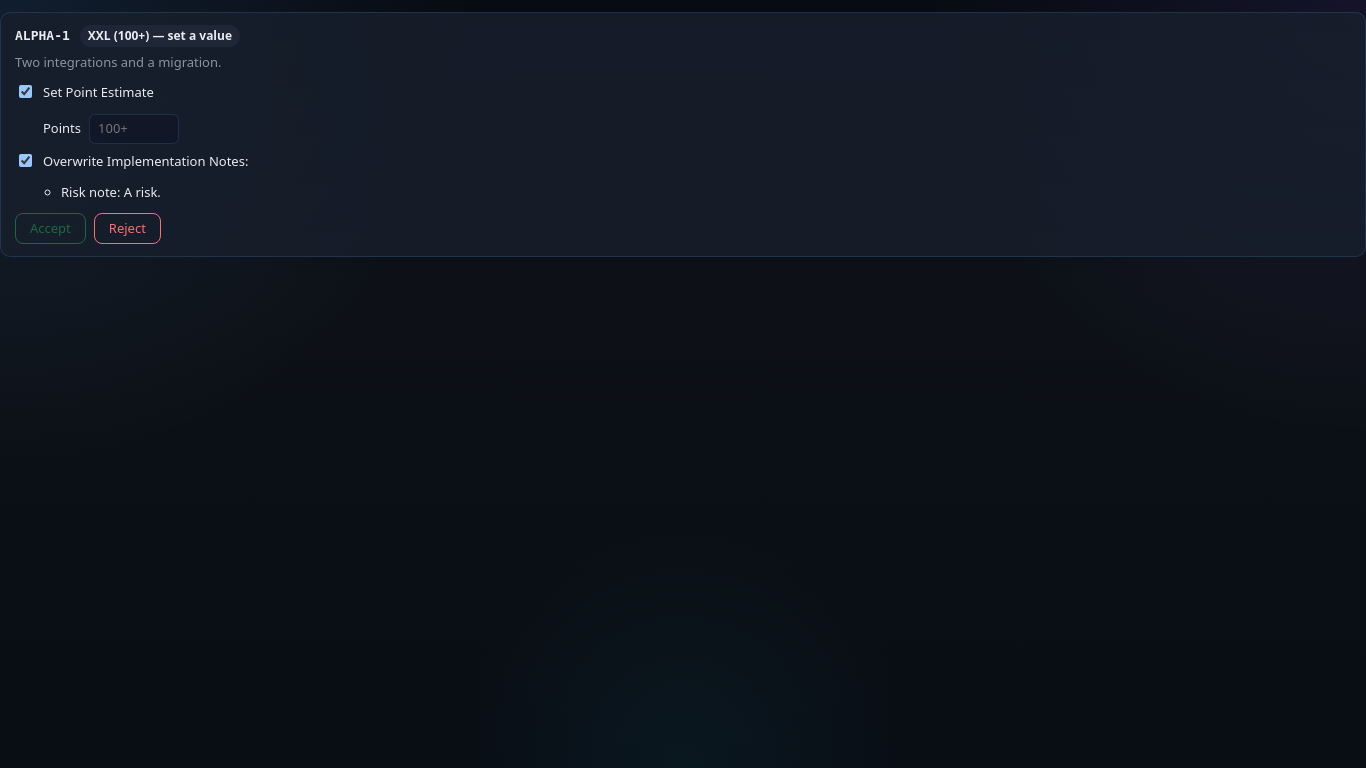
Scenario: PiReviewSuggestionTable › lets an XXL suggestion be accepted for its notes alone by unticking the estimate
Expected: the button "Accept" is disabled, [15,212,86,244]
…but unticking the estimate lifts the block, because no number is needed for a field not applied.
Click the checkbox named "apply point estimate for alpha-1": (26, 91) [19,84,32,98]
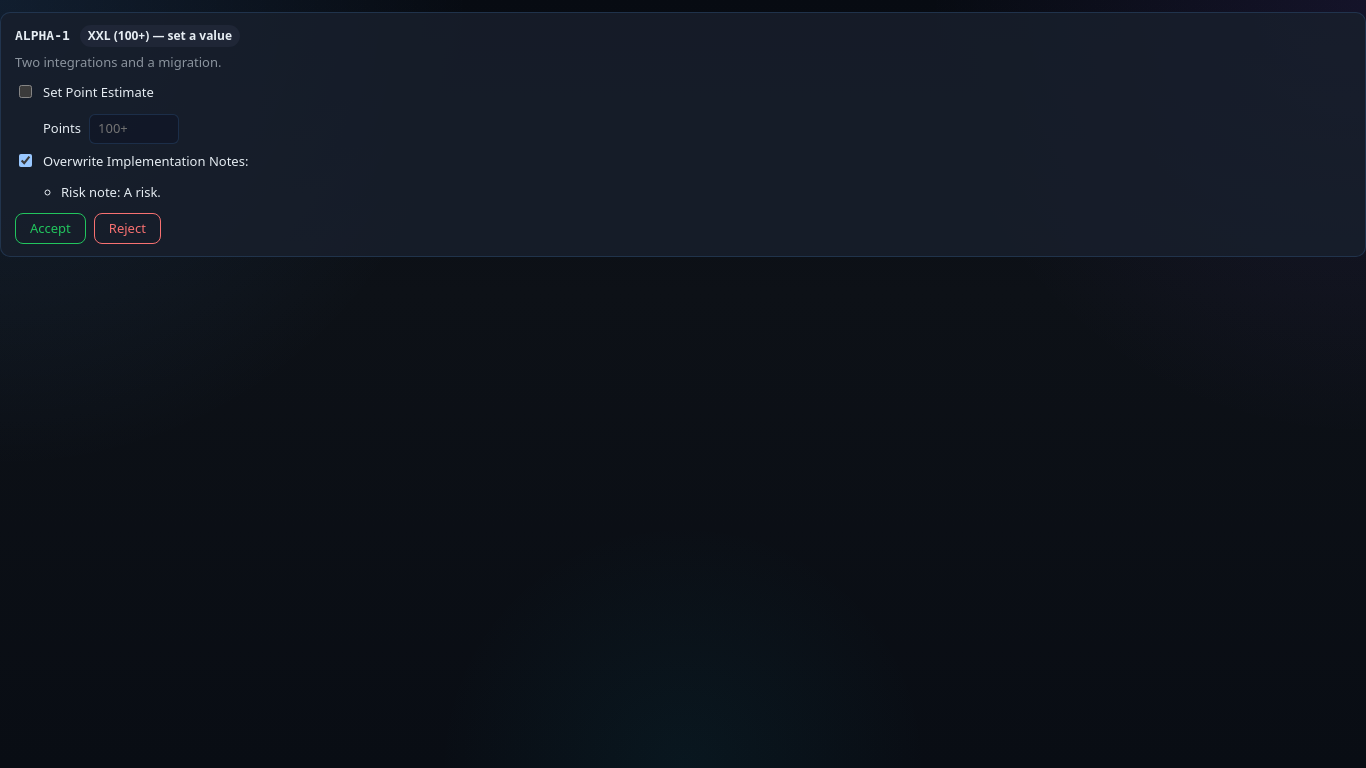
Result: the button "Accept" is enabled at [15,212,86,244]
